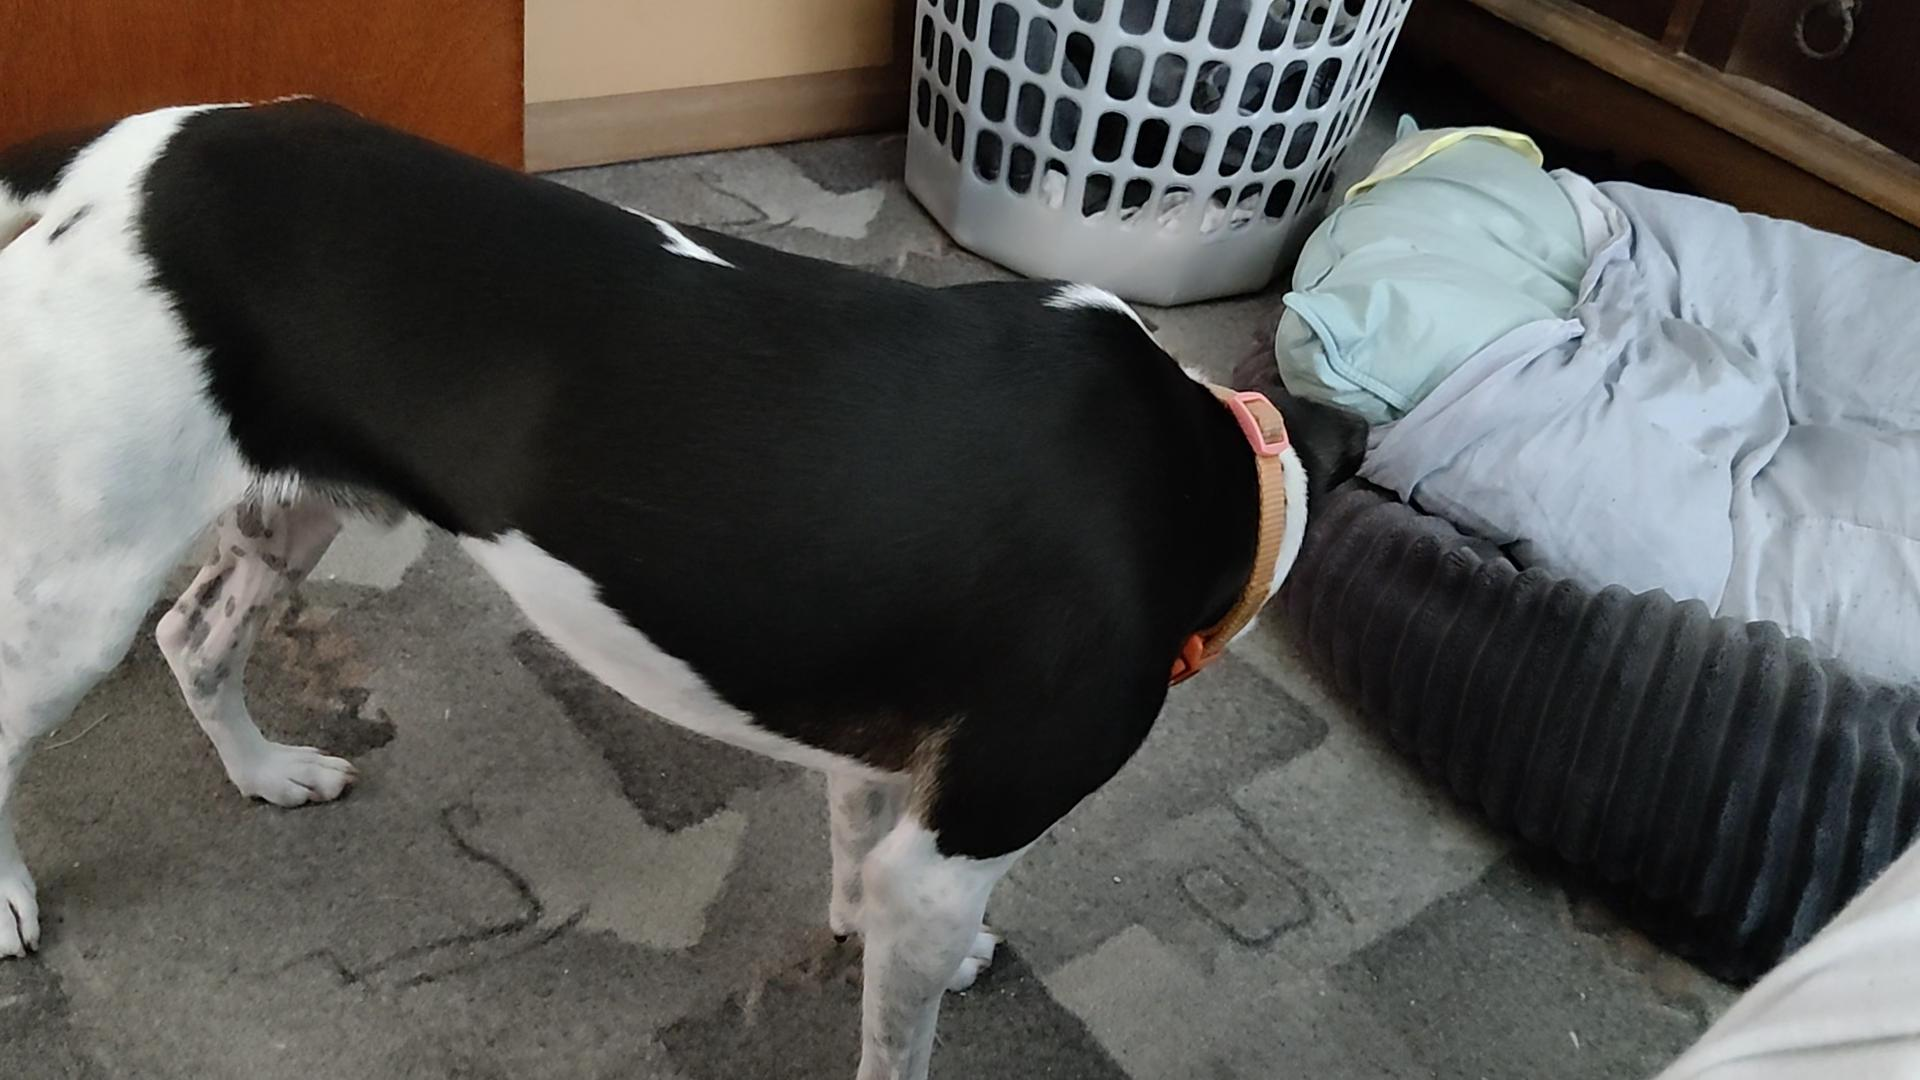Dog: (0, 90, 1374, 1079)
